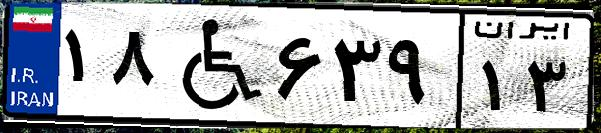1: (57, 26, 110, 100), (475, 38, 525, 113)
3: (330, 28, 385, 110), (525, 38, 570, 115)
6: (270, 28, 330, 110)
8: (110, 28, 158, 98)
9: (385, 28, 445, 110)
ژ (معلولین و جانبازان): (158, 12, 270, 120)
